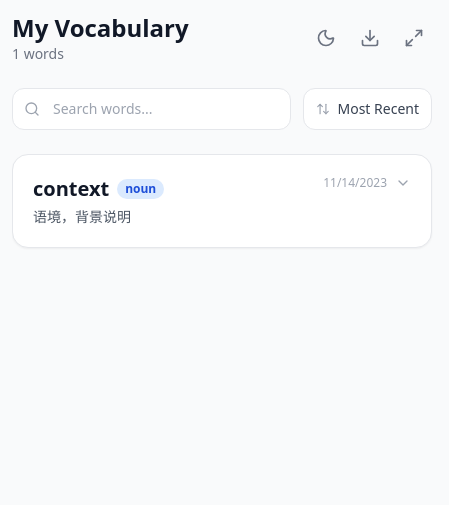
it: VocabularyList › toggles word details on expand/collapse
Expected: the text "Jump to Source" is not shown
Click the button with aria-label "Expand word details". click: point(71, 188)
box: [33,175,411,227]
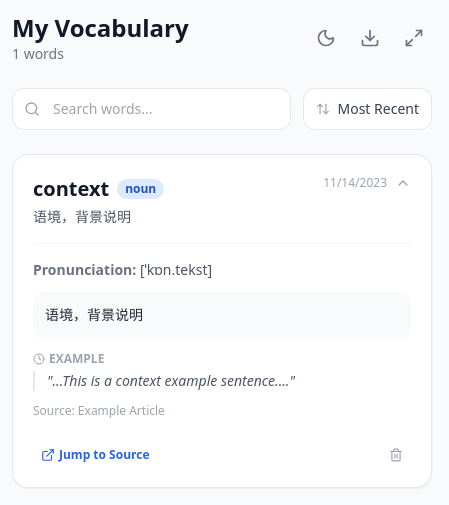
Now the text "Jump to Source" is shown, box [59,447,150,463]
Now the text "Source: Example Article" is shown, box [33,402,165,419]
Click the button with aria-label "Collapse word details". click: point(71, 188)
box: [33,175,411,227]
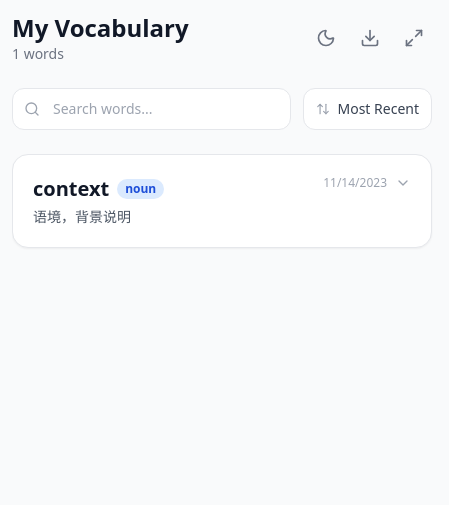
Now the button "Jump to Source" is gone
